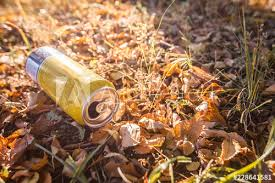can: (25, 47, 120, 129)
